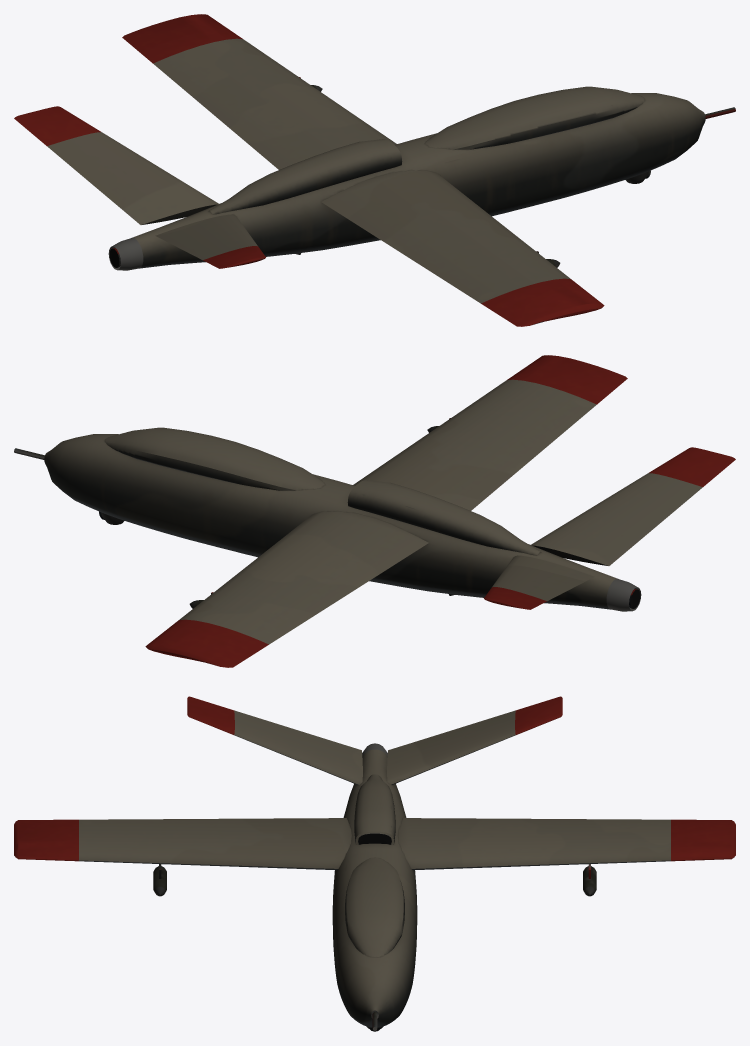
The model's file is fh_battle_e_drone.glb.
3 renders of one model, top to bottom at view 1: azimuth 30°, elevation 25°; view 2: azimuth 150°, elevation 25°; view 3: azimuth 270°, elevation 25°, orthographic. The views are drawn at different scales.
Parts seen in each view (by area): view 1: drone; view 2: drone; view 3: drone.
Boxes of the visible parts, x1,y1,x2,y2 form: drone: [14, 14, 735, 326]; drone: [14, 355, 735, 667]; drone: [14, 696, 735, 1031].
Size of the model in its own units: 0.9935 by 0.1789 by 1.11.
Materials: 2 (2 with a texture image).
